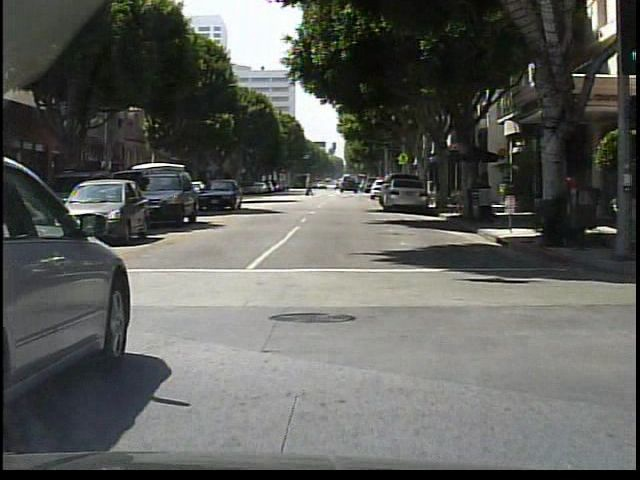person: (562, 168, 578, 236), (469, 168, 485, 221), (304, 178, 314, 197)
